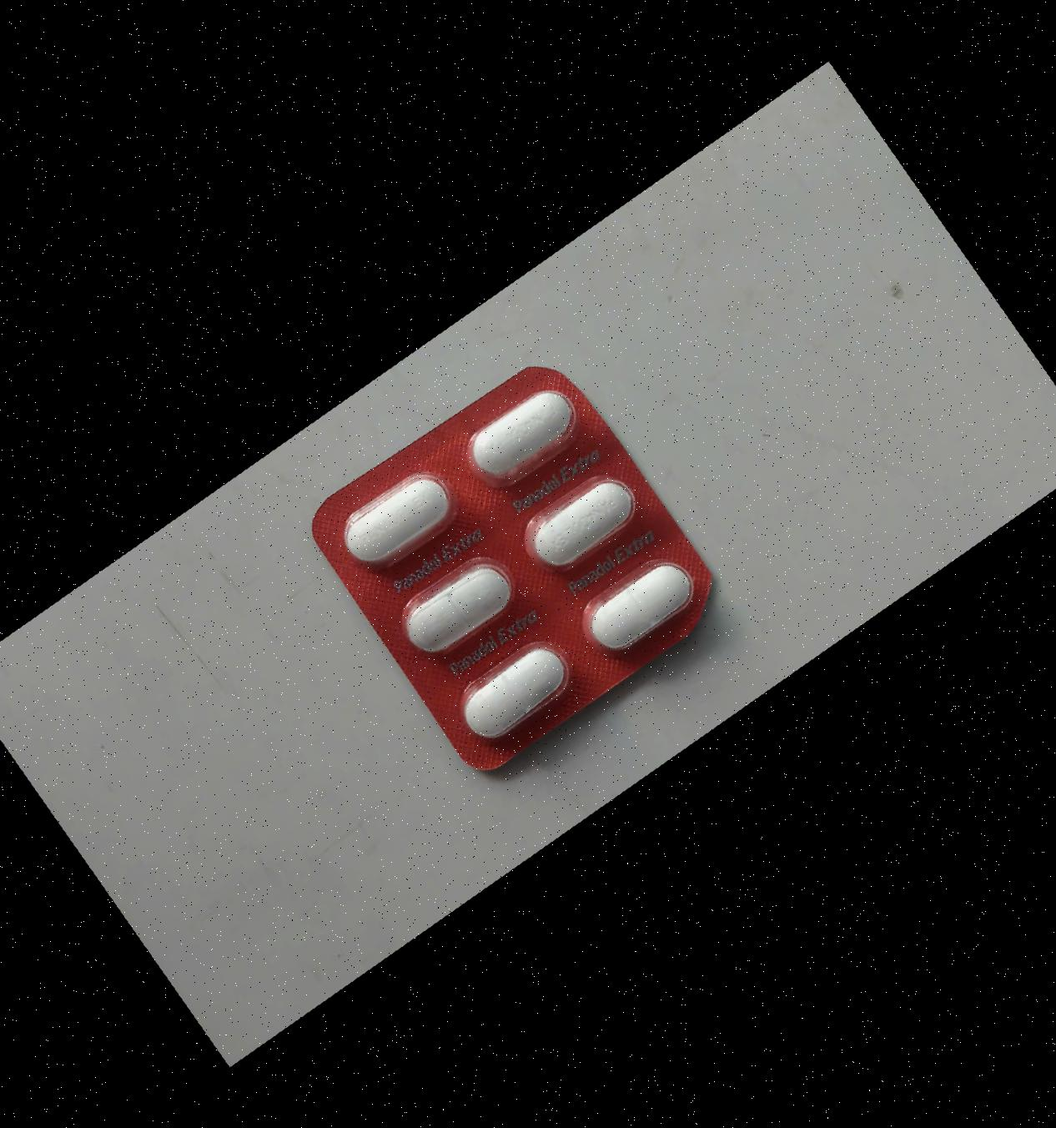Full: (388, 545, 530, 676), (569, 542, 711, 672), (445, 631, 587, 761), (515, 457, 657, 587), (448, 371, 590, 501), (326, 455, 468, 585)
